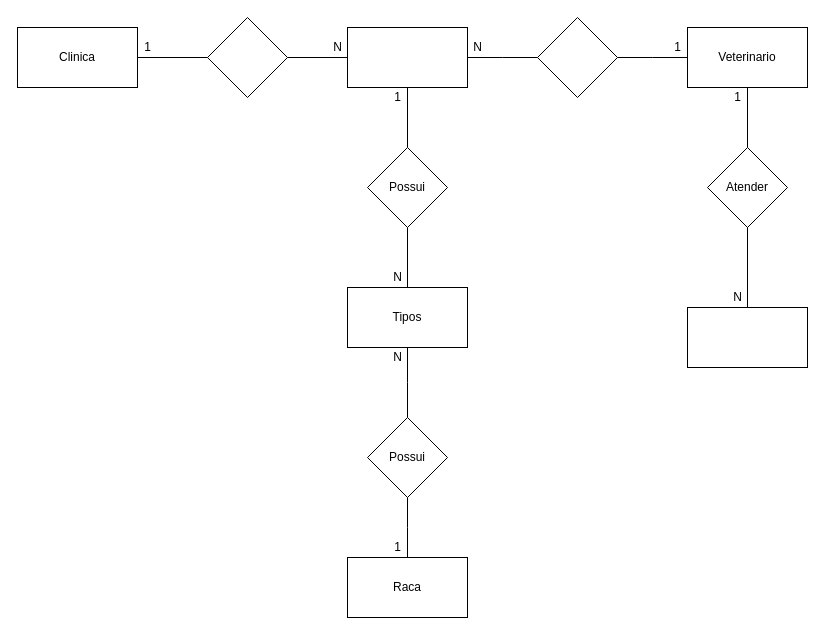
The diagram is 825 pixels wide and 635 high, and some of its shapes have lost their labels. Each missing label, with the centre of its shape:
"Atendido" belongs at point (577, 57).
"Cadastrar" belongs at point (247, 57).
"Donos" belongs at point (747, 337).
"Pet" belongs at point (407, 57).
